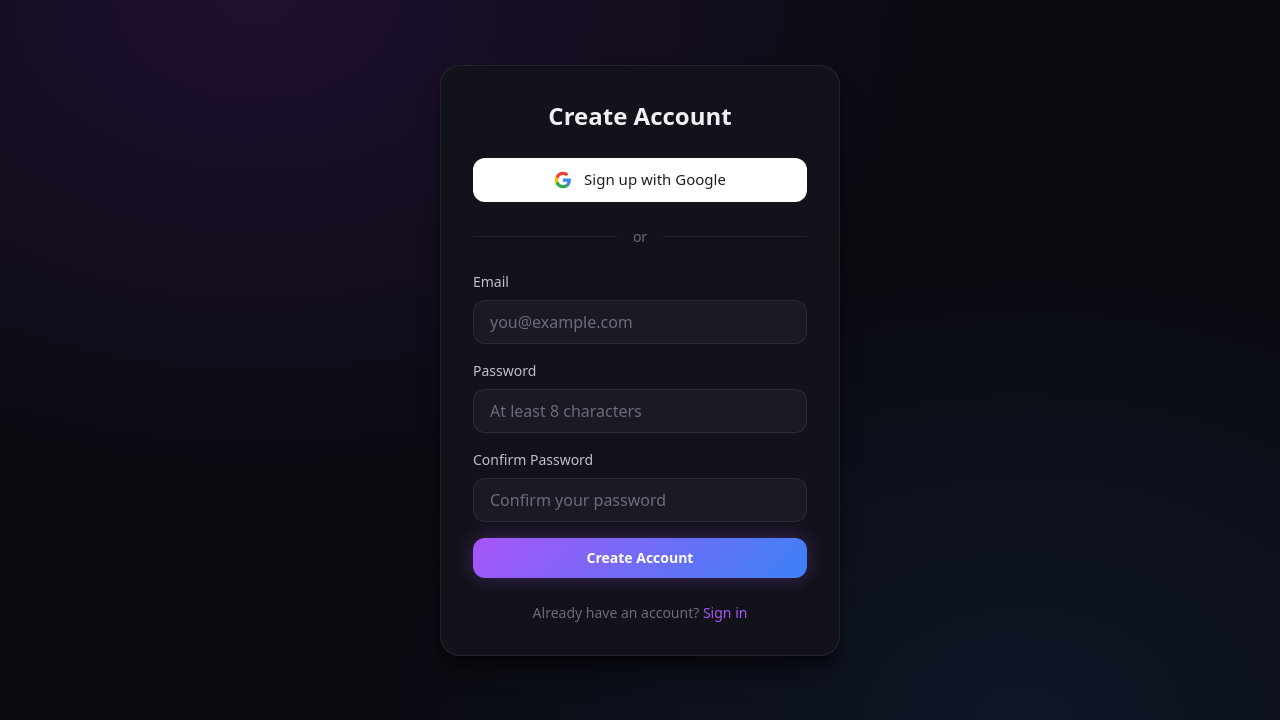
it: RegisterPage › form validation › should show error when email is empty
Click the button "Create Account" at coordinates (640, 558), box left=473, top=538, right=807, bottom=578
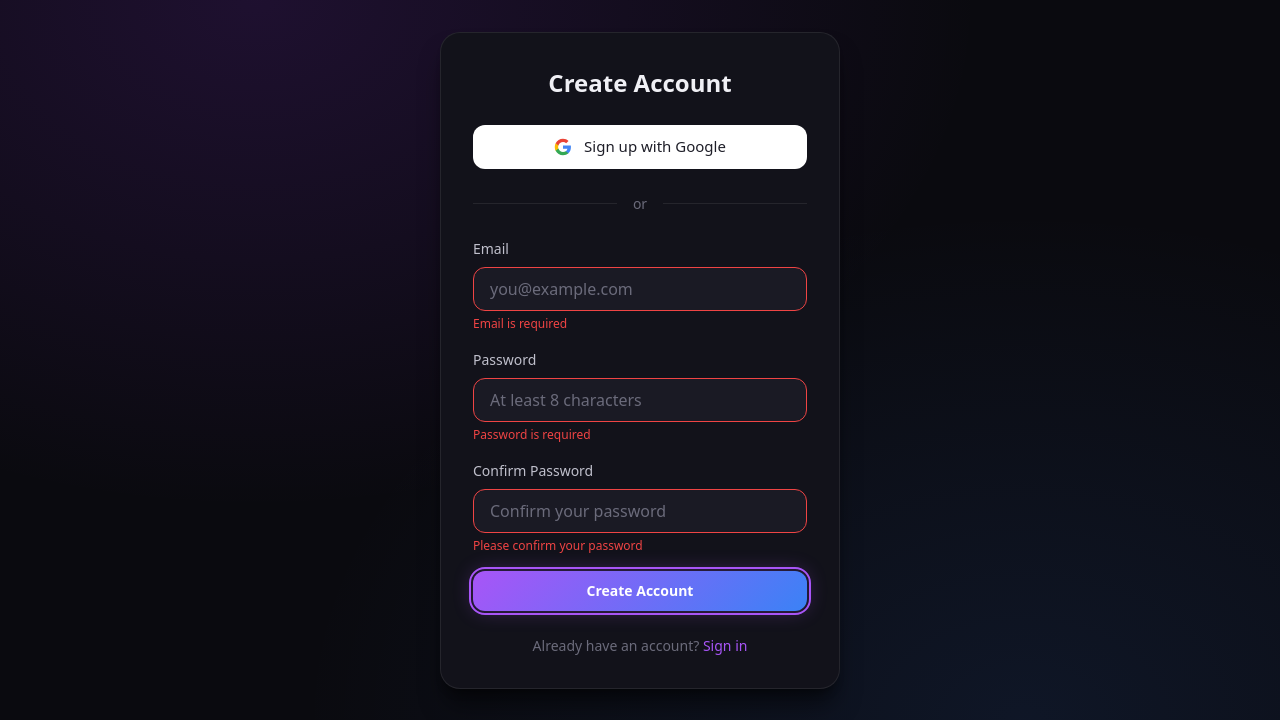
expect the text "Email is required" is shown: met, box left=473, top=314, right=567, bottom=332
